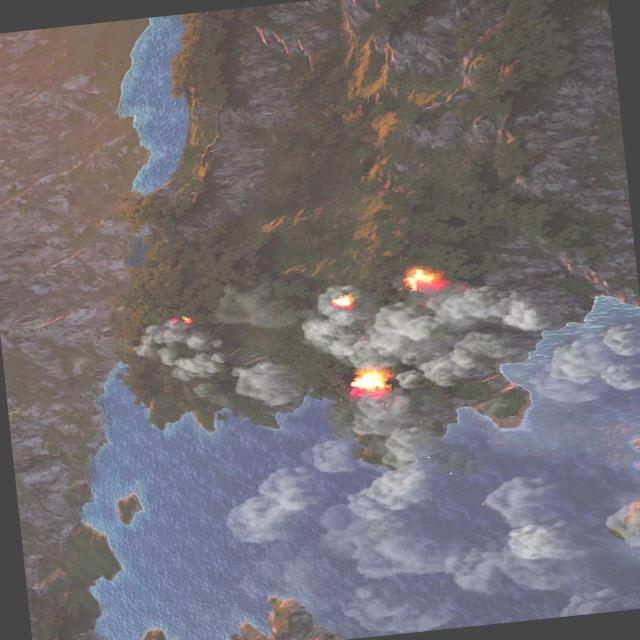fire: (349, 366, 390, 398), (402, 262, 448, 290), (170, 308, 193, 326), (332, 294, 357, 310)
smoke: (202, 262, 640, 640), (138, 309, 306, 420)
